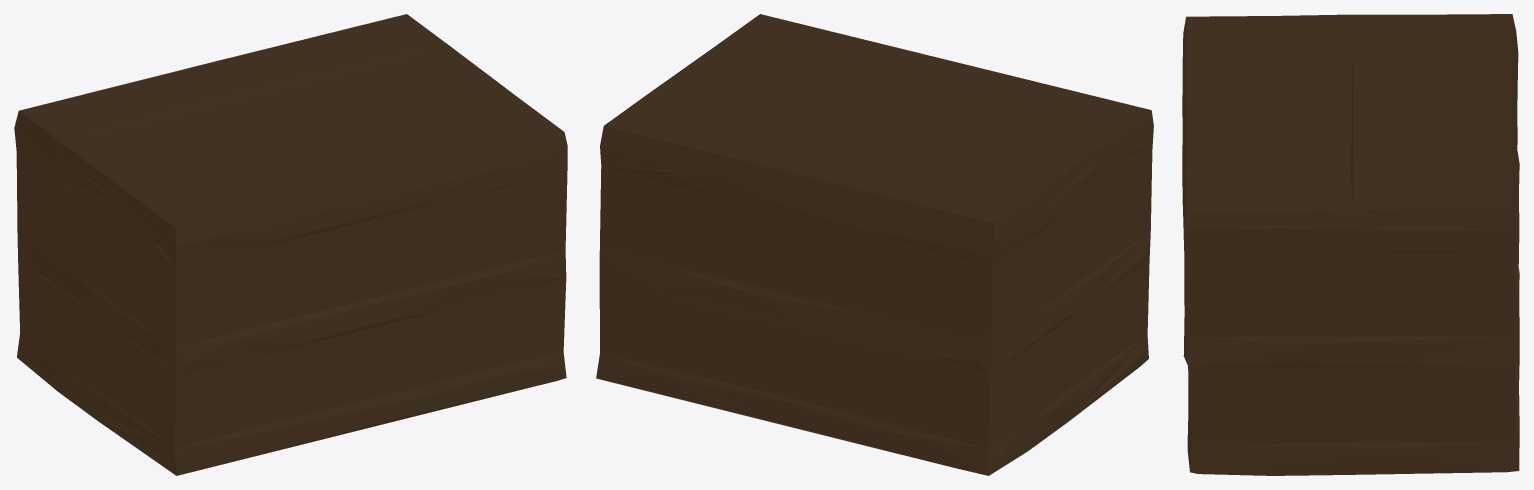
The model's file is prop_equipment_crate.glb.
3 renders of one model, left to right at view 1: azimuth 30°, elevation 25°; view 2: azimuth 150°, elevation 25°; view 3: azimuth 270°, elevation 25°, orthographic. The views are drawn at different scales.
Parts seen in each view (by area): view 1: prop_equipment_crate; view 2: prop_equipment_crate; view 3: prop_equipment_crate.
Boxes of the visible parts, <box> form: prop_equipment_crate: <box>14,14,567,475</box>; prop_equipment_crate: <box>596,14,1153,475</box>; prop_equipment_crate: <box>1182,14,1519,475</box>.
Size of the model in its own units: 0.6426 by 0.3982 by 0.4543.
